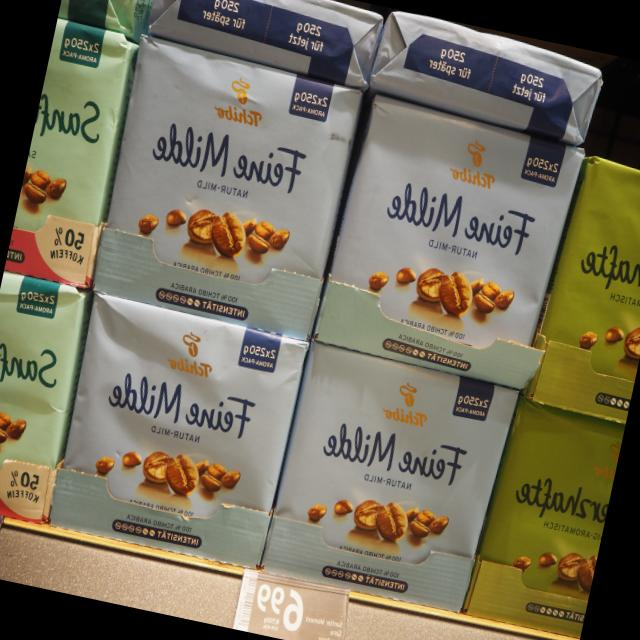FM Gemahlen: (87, 31, 366, 342), (310, 87, 590, 393), (45, 291, 310, 571), (259, 340, 521, 613)
